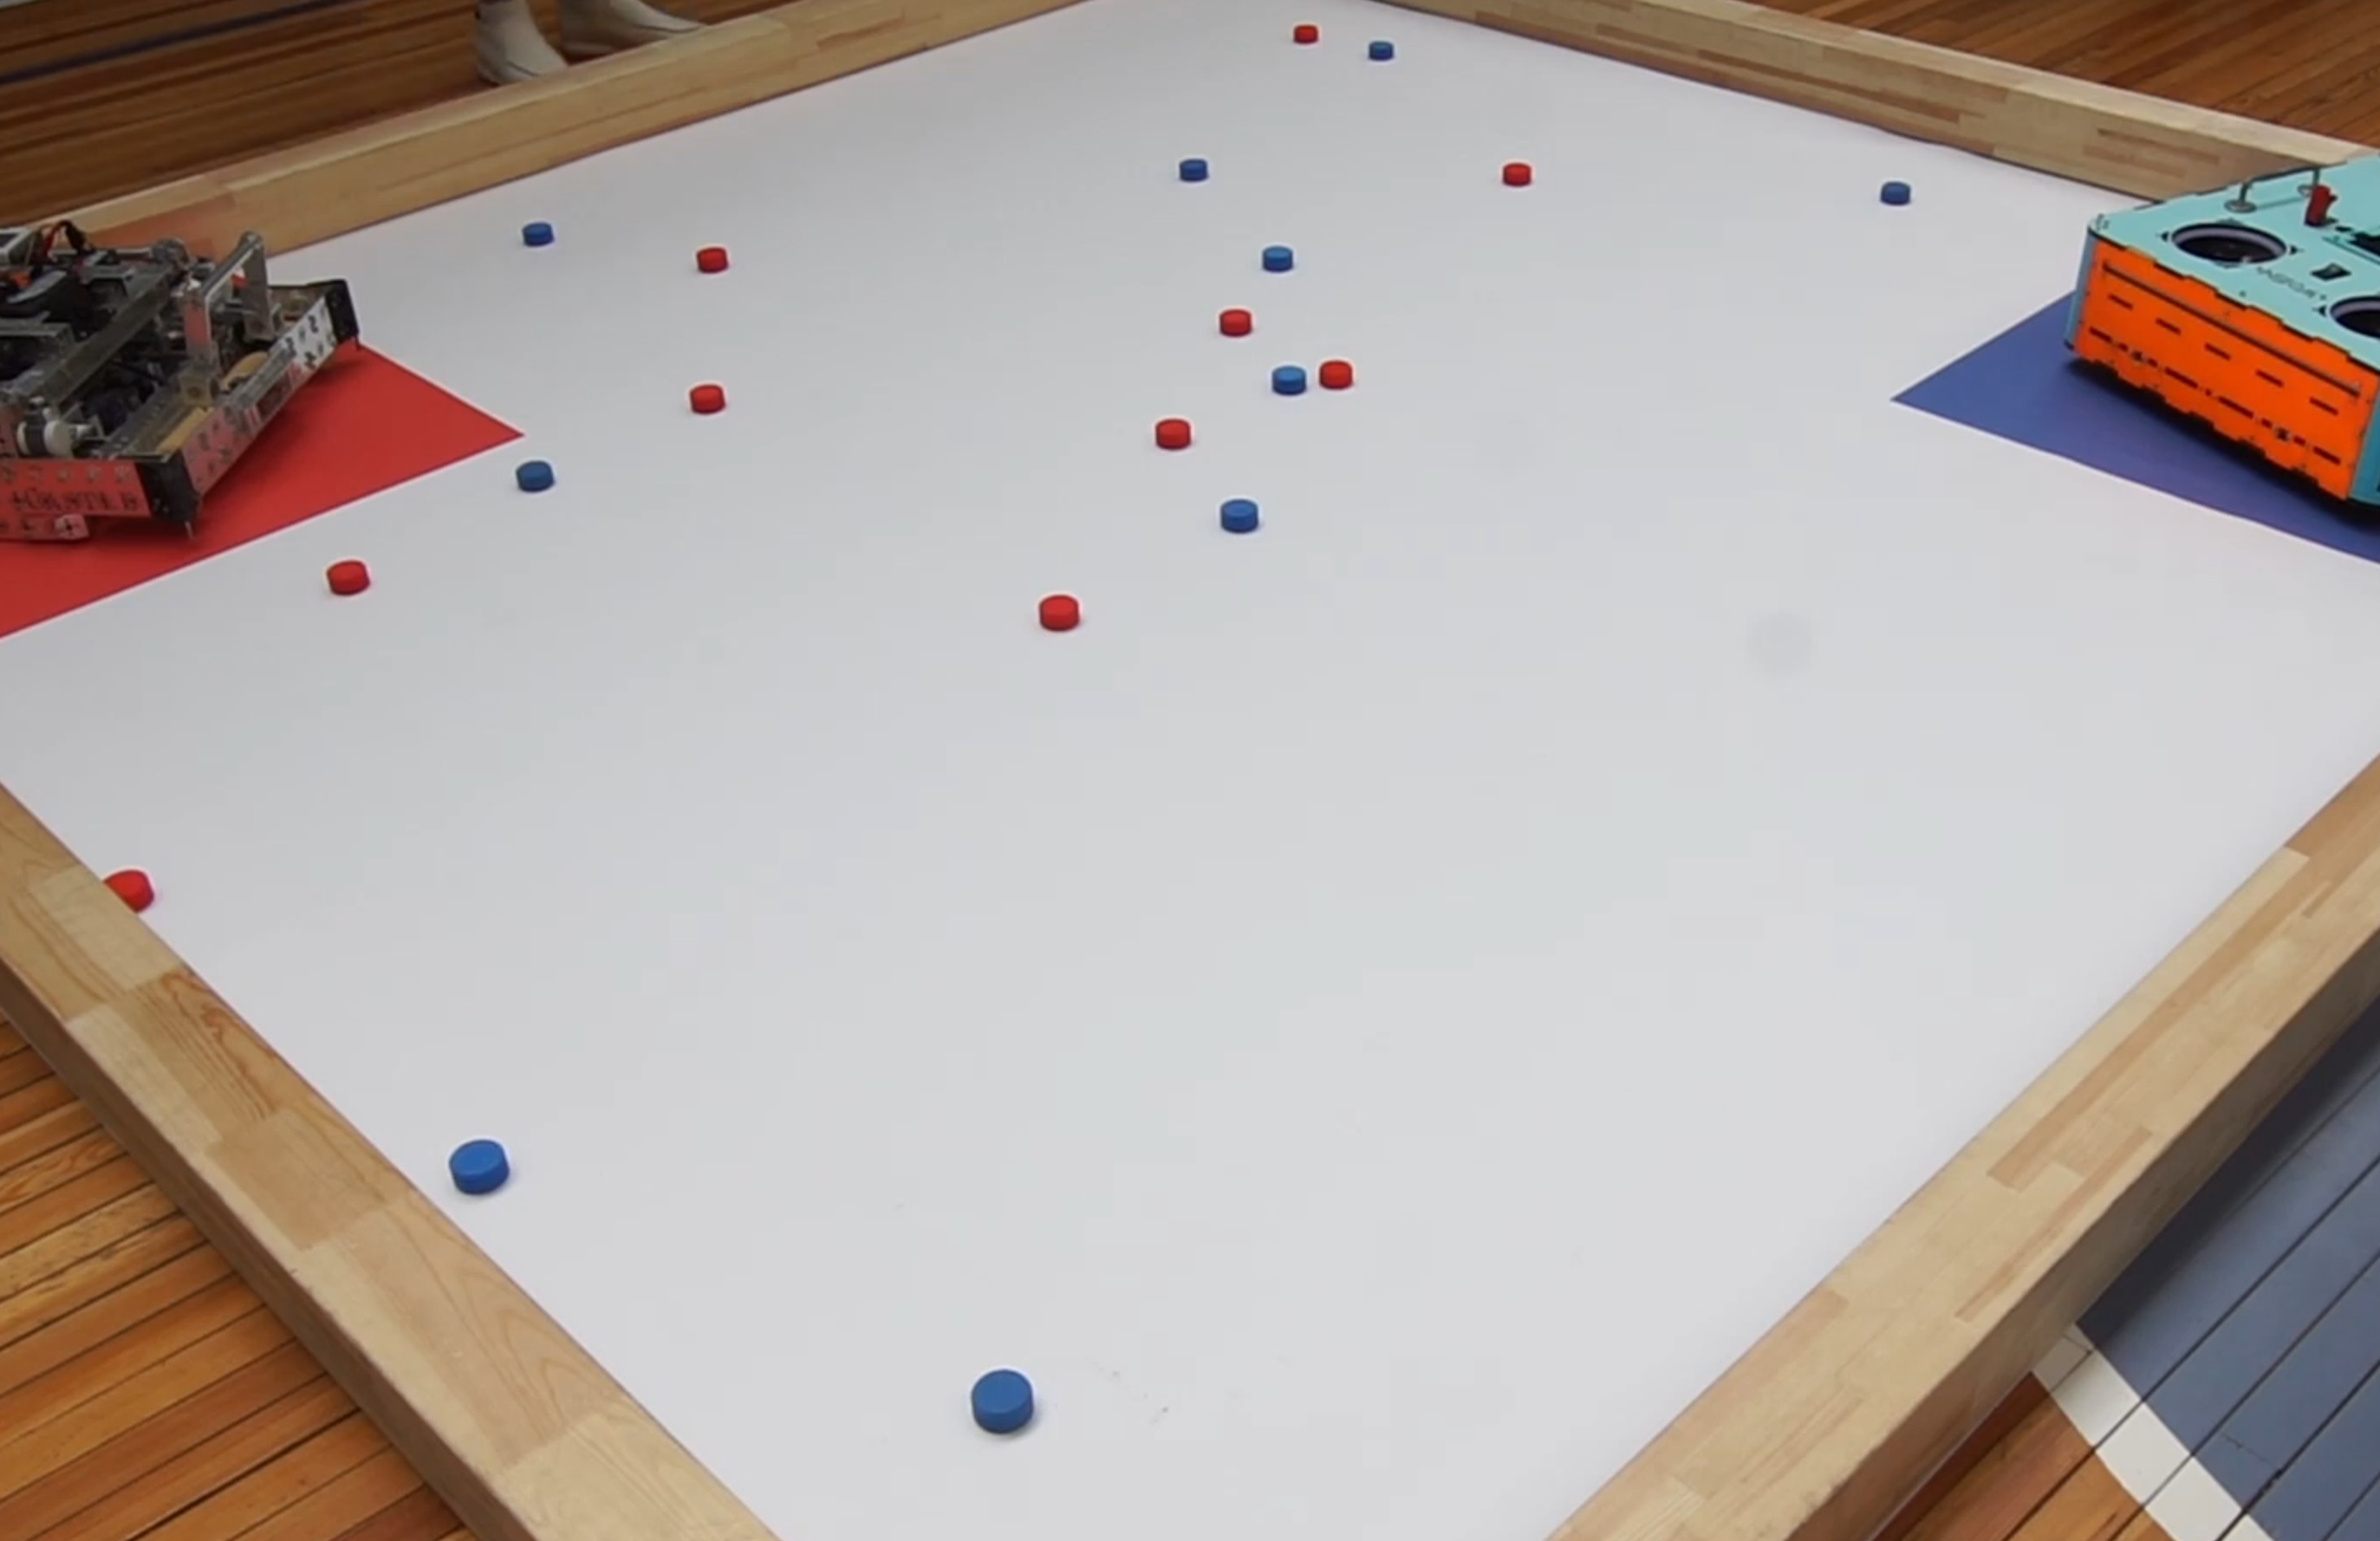blue_puck: (968, 1369, 1037, 1432), (448, 1138, 507, 1196), (513, 458, 555, 496), (1219, 496, 1256, 536), (1272, 363, 1304, 401), (1877, 180, 1915, 207), (1259, 246, 1296, 272), (520, 222, 552, 246), (1178, 158, 1206, 180), (1369, 38, 1395, 61)
red_puck: (99, 862, 154, 911), (1036, 592, 1088, 633), (321, 561, 371, 599), (685, 382, 732, 420), (1216, 307, 1256, 342), (1152, 416, 1190, 449), (1315, 359, 1351, 392), (692, 246, 729, 274), (1499, 160, 1530, 187), (1292, 21, 1317, 43)
